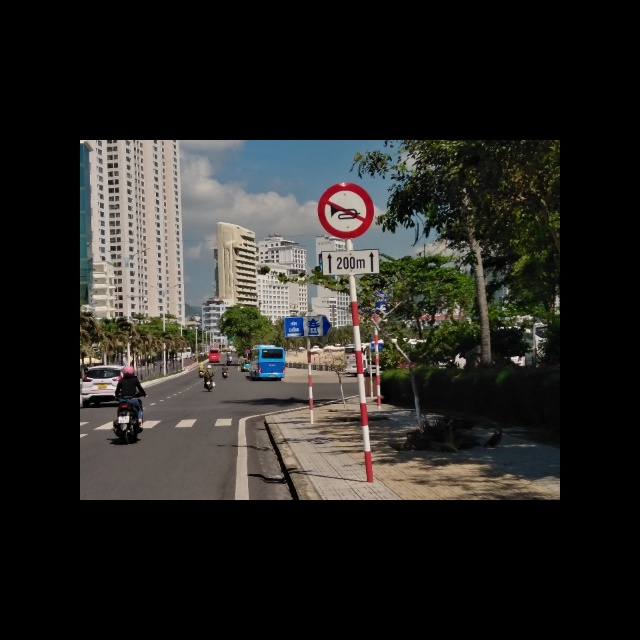Cấm bấm còi: (317, 182, 374, 238)
